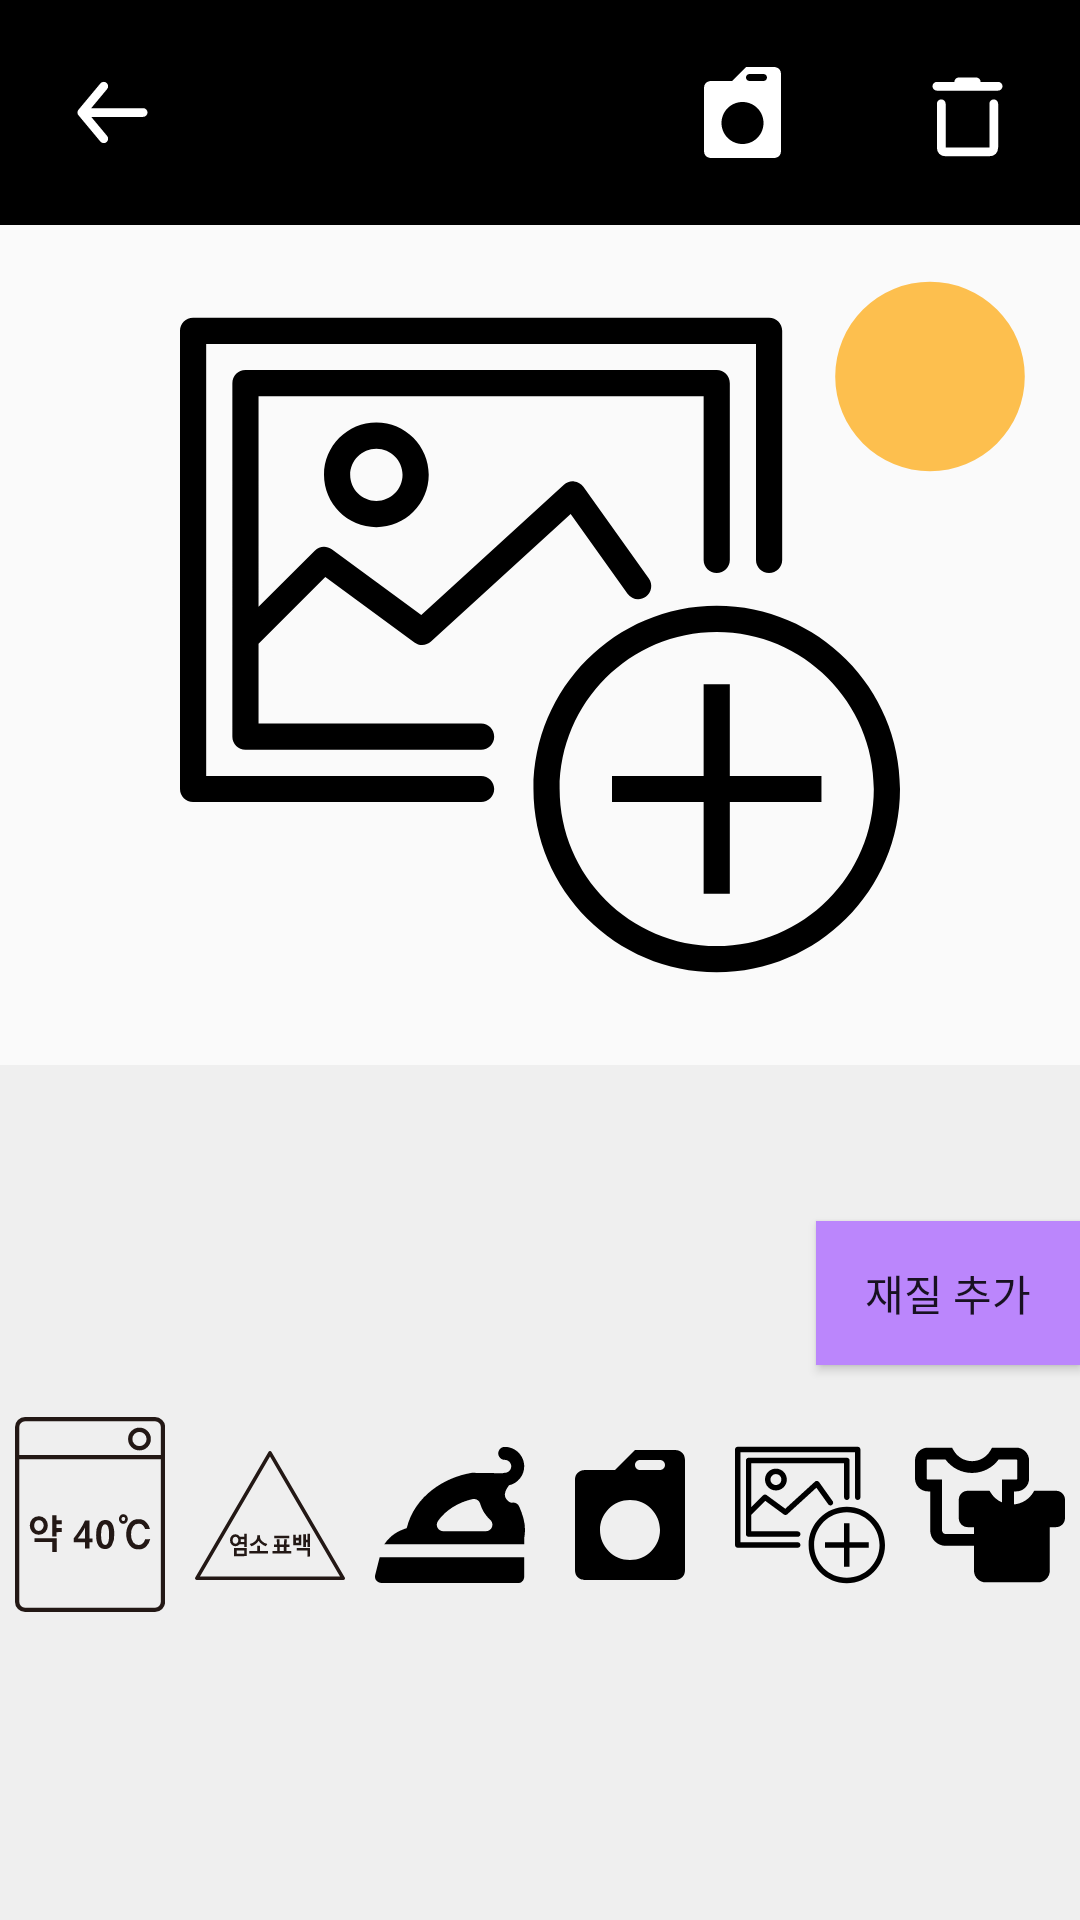

Icon click points for this 1080px×1920px phone screenshot, format point (x, y):
back arrow: point (112, 112)
bin: point (967, 117)
iron: point (450, 1515)
